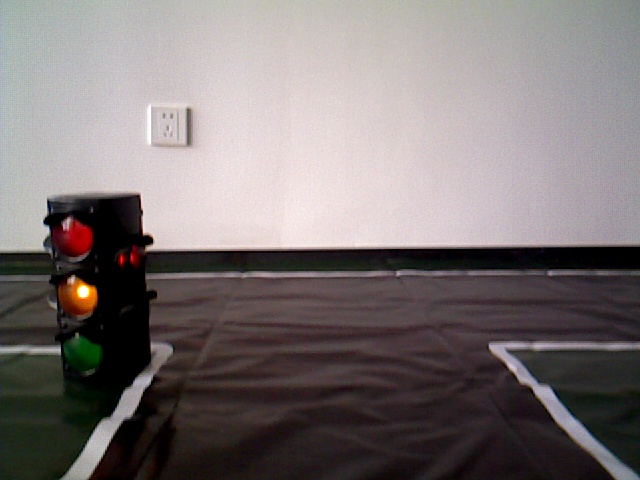yellow: (45, 196, 147, 391)
